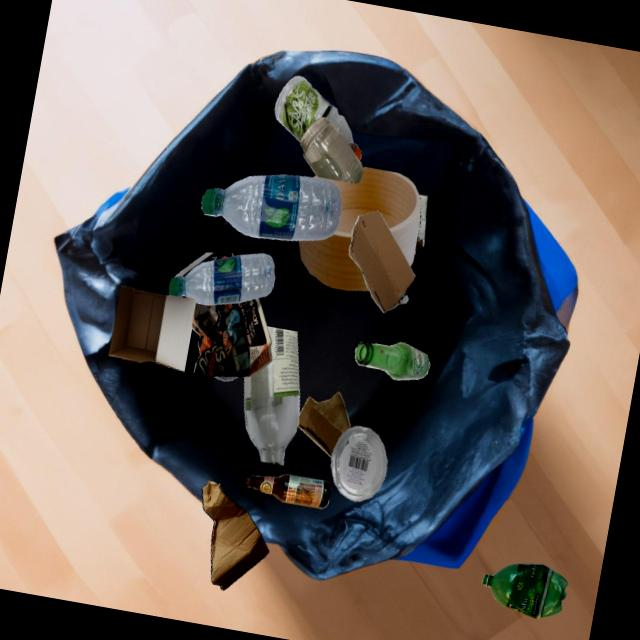cardboard: (108, 285, 196, 371), (201, 480, 268, 590), (348, 210, 414, 313), (297, 392, 350, 457), (415, 194, 428, 249)
combustible waste: (298, 167, 420, 291)
glass: (244, 326, 299, 465), (299, 116, 363, 182), (246, 473, 331, 508), (354, 341, 429, 380)
paper: (191, 313, 250, 376), (179, 257, 236, 313), (236, 298, 272, 376)
plastic: (201, 174, 342, 240), (274, 75, 361, 160), (168, 253, 274, 305), (481, 563, 567, 619), (330, 425, 387, 501), (214, 376, 238, 381)
